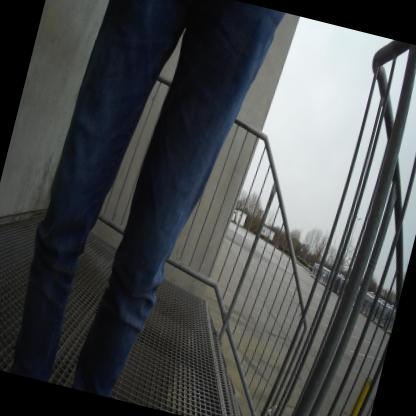pallet: (366, 315, 375, 323), (373, 319, 381, 326), (360, 310, 368, 317), (383, 329, 391, 335), (364, 314, 370, 321), (378, 324, 384, 330)
